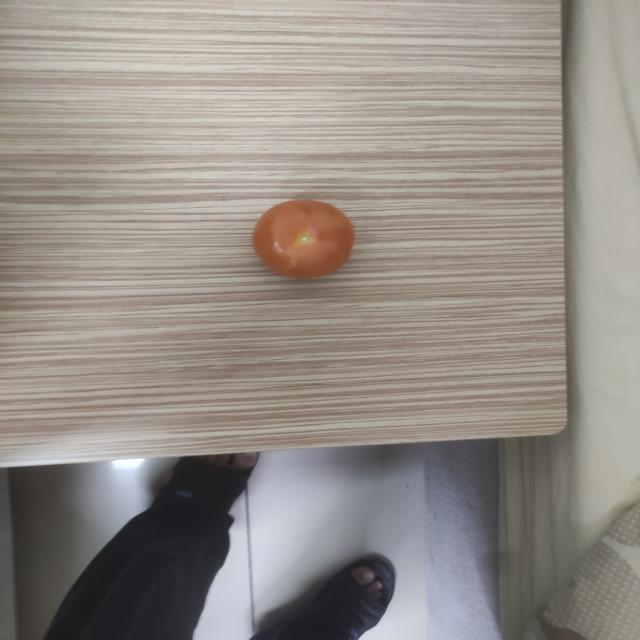sari: (229, 196, 374, 286)
